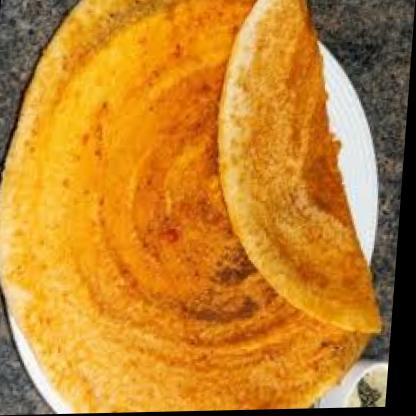dosa: (0, 0, 404, 416)
